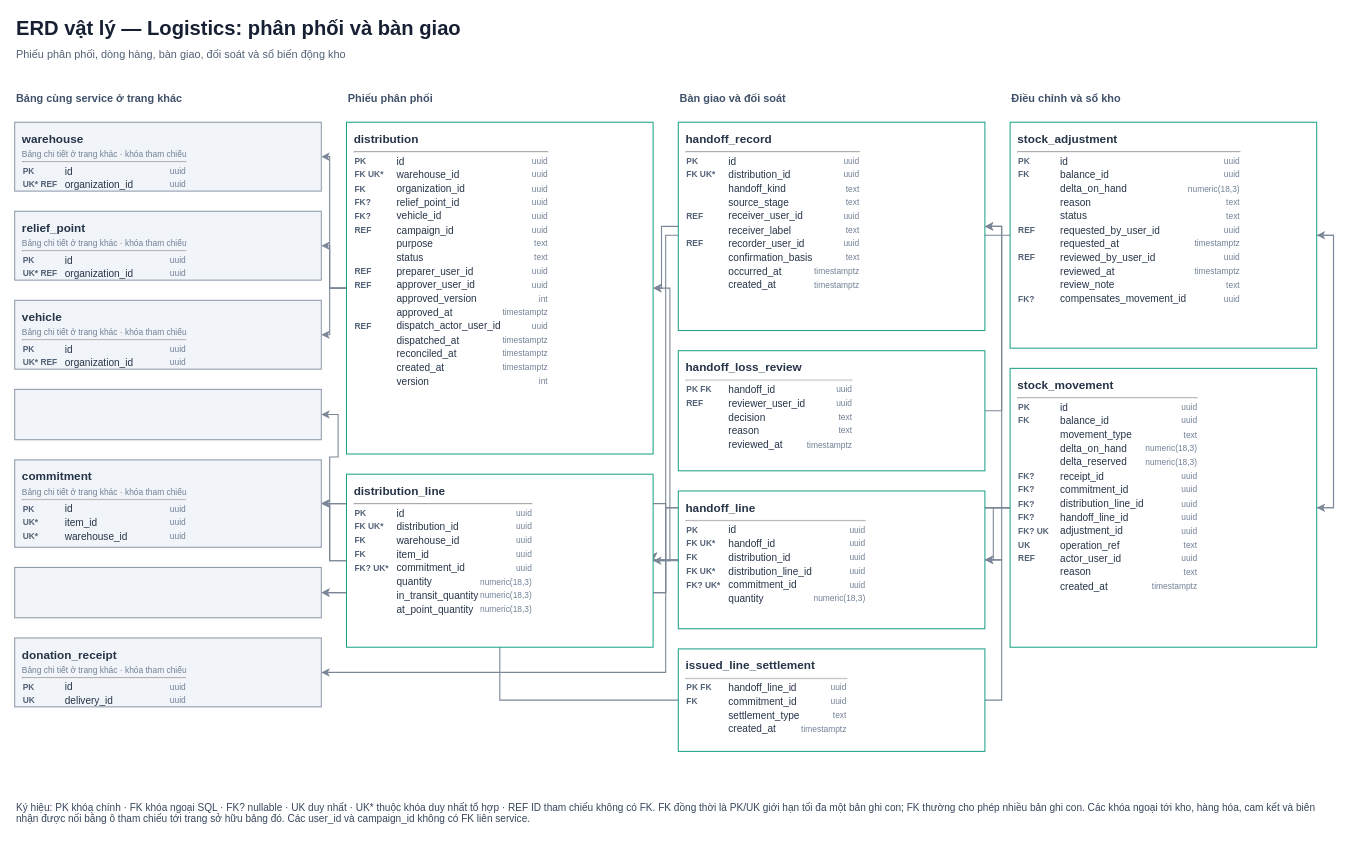
Image size: 1356x860. Some labels were removed from this diagram. The shapes that lost their labels are listed below. From the top down, each one's centre as x and y in pixels, then its label:
point (167, 414): item Bảng chi tiết ở trang khác · khóa tham chiếu PK id uuid
point (167, 592): stock_balance Bảng chi tiết ở trang khác · khóa tham chiếu PK id uuid
